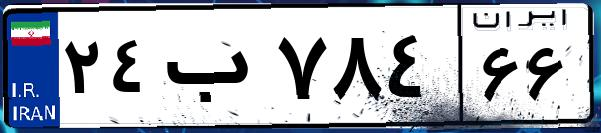2: (57, 26, 110, 100)
4: (385, 28, 445, 110), (110, 28, 158, 98)
6: (475, 38, 525, 113), (525, 38, 570, 115)
7: (270, 28, 330, 110)
8: (330, 28, 385, 110)
ب: (158, 20, 270, 120)
